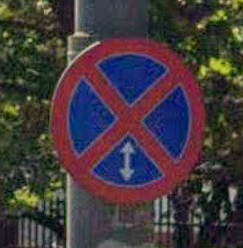oprirea_interzisa: (47, 35, 211, 210)
